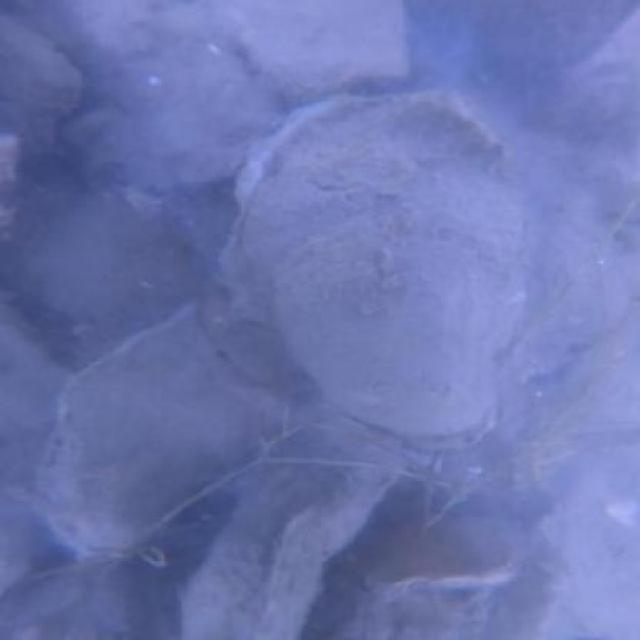Oyster-Closed: (213, 83, 533, 352), (265, 234, 497, 458)
Oyster-Indeterminate: (183, 418, 419, 640), (41, 320, 262, 557), (60, 14, 270, 187), (220, 4, 420, 100), (360, 513, 531, 590), (0, 18, 77, 139)
